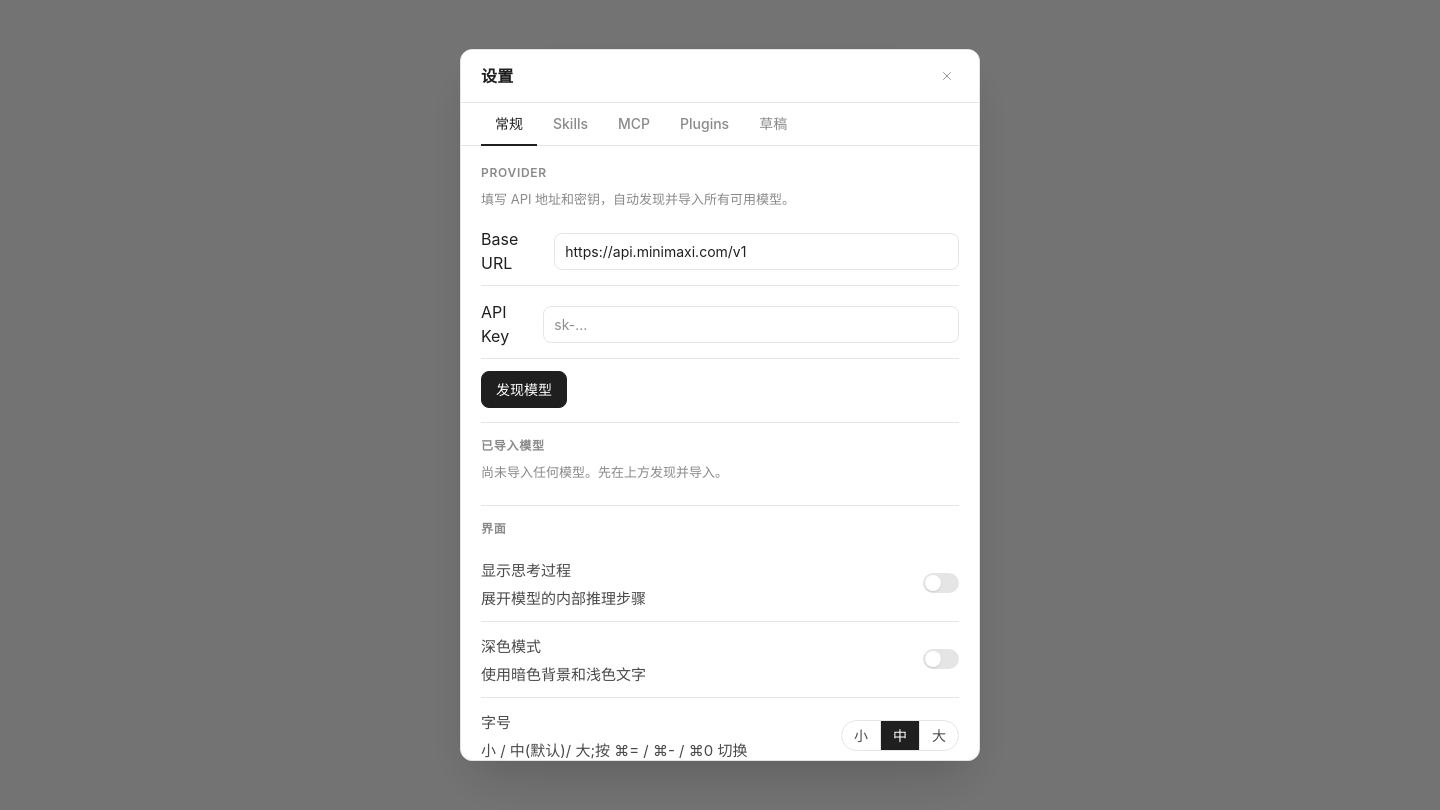
PreferencesModal 草稿 tab › 切到草稿 tab → 列出 localStorage 已存的草稿(项目名 + 预览 + 跳回/删除)
切到草稿 tab
Click the tab "草稿": point(773, 124) [745, 103, 801, 146]
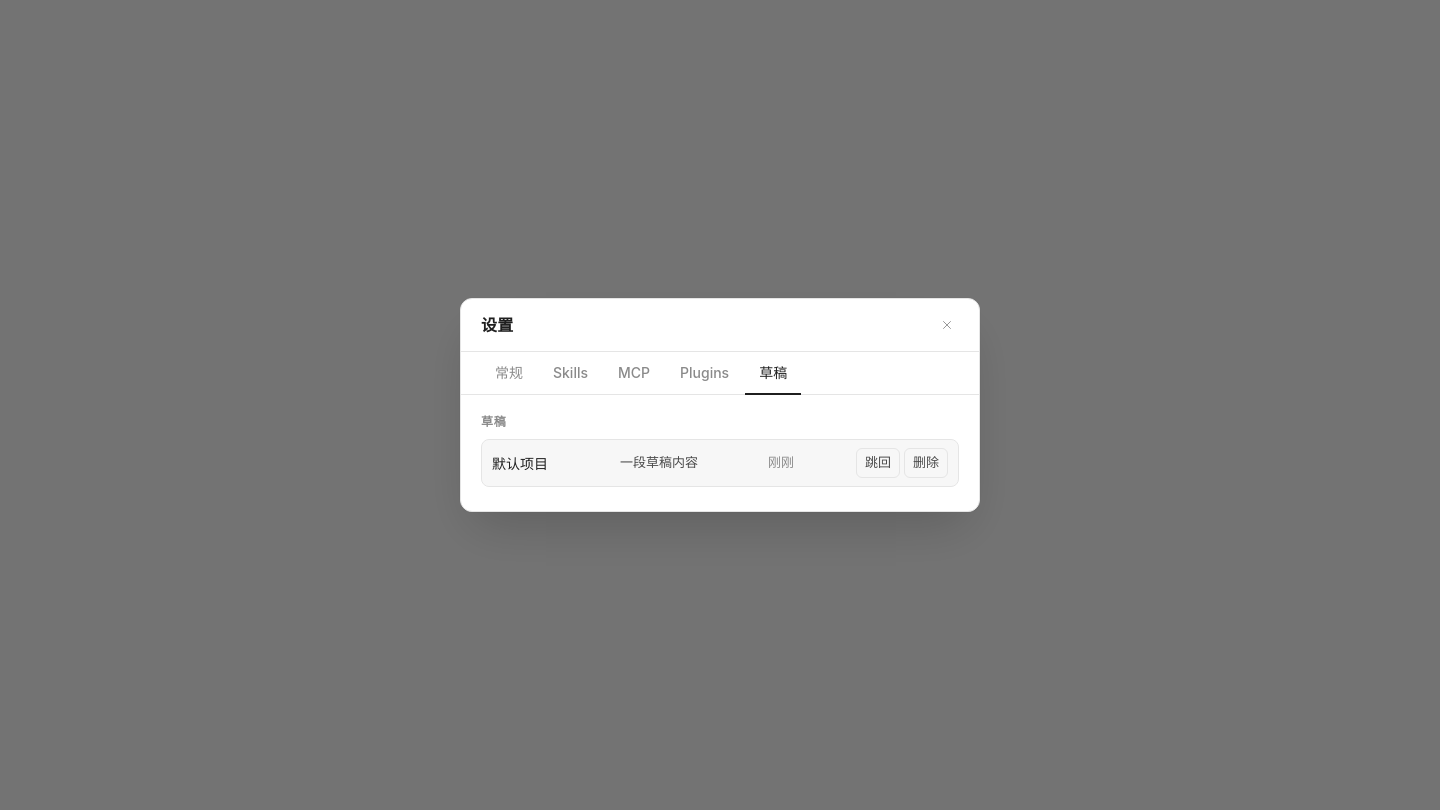
Check: the text "默认项目" is shown, box [492, 454, 548, 472]
Check: the text "一段草稿内容" is shown, box [620, 454, 698, 470]
Check: the button "跳回" is shown, box [856, 448, 900, 478]
